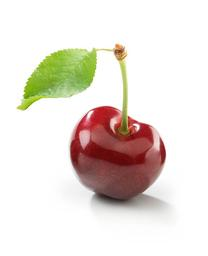cherry: (70, 106, 167, 201)
